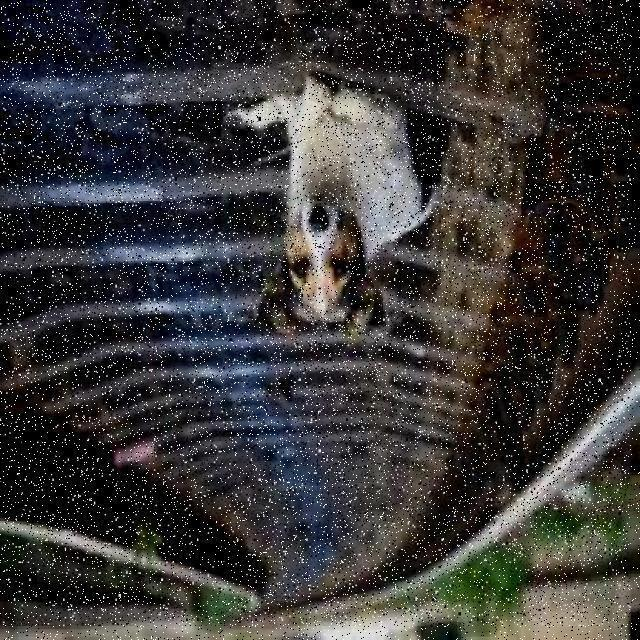rail: (1, 1, 632, 627)
